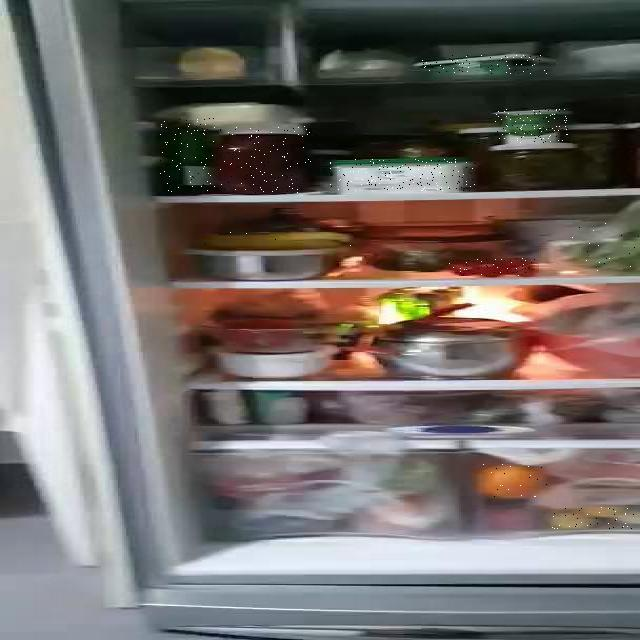banana: (202, 232, 352, 248)
cheese: (330, 159, 476, 191)
cream cheese: (421, 55, 547, 74)
lemon: (552, 507, 636, 529)
lettuce: (572, 221, 640, 271)
mineral water: (160, 118, 215, 192)
orange: (478, 464, 548, 498)
tomato: (446, 258, 536, 276)
tomato paste: (219, 126, 311, 193)
yoghurt: (495, 109, 568, 143)
